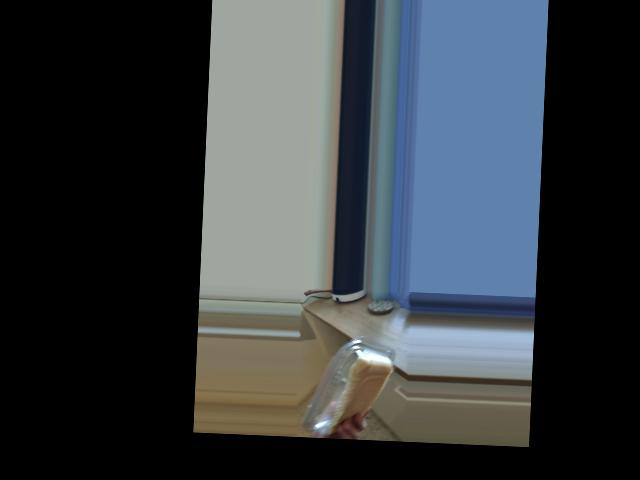cheese: (318, 345, 383, 403)
